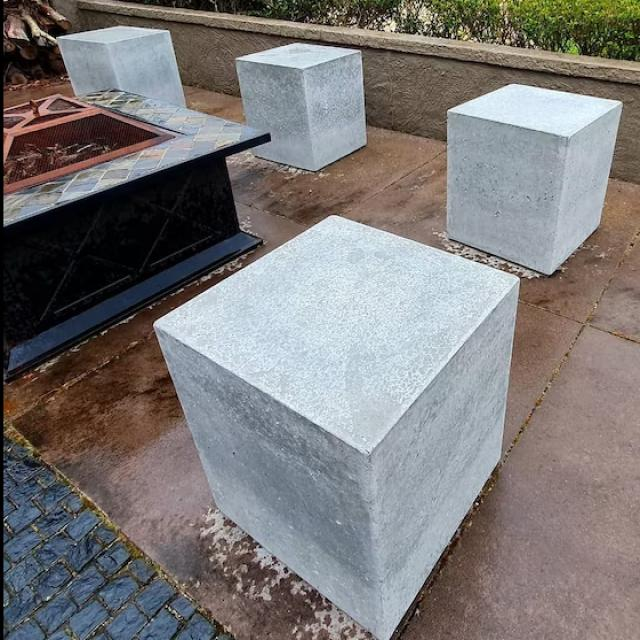Concrete: (154, 215, 521, 640), (445, 84, 623, 278), (234, 43, 367, 174), (56, 28, 189, 111)
